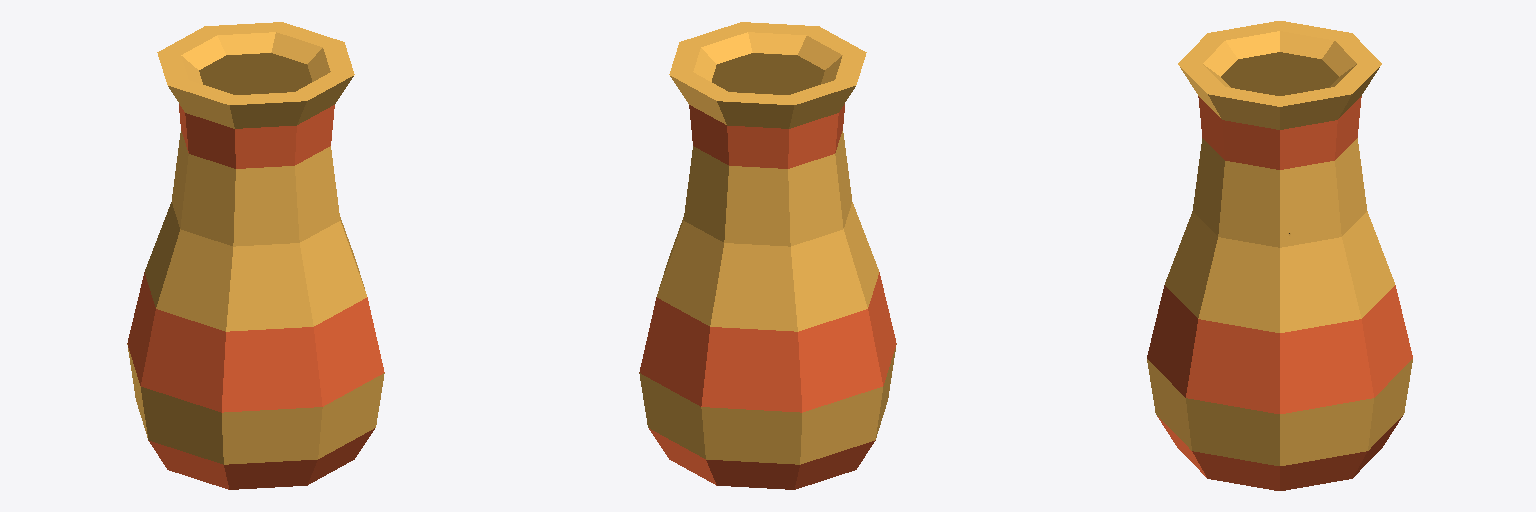
The picture shows the model from 3 angles: view 1: azimuth 30°, elevation 25°; view 2: azimuth 150°, elevation 25°; view 3: azimuth 270°, elevation 25°; orthographic projection.
Visible parts, largest first — view 1: Cylinder; view 2: Cylinder; view 3: Cylinder.
Boxes of the visible parts, box(x1,y1,x2,y2) form: Cylinder: box(127, 22, 384, 489); Cylinder: box(639, 22, 896, 489); Cylinder: box(1147, 21, 1412, 490).
Size of the model in its own units: 2.61 by 4.15 by 2.61.
1 materials, 1 textured.